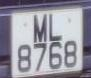6: (48, 41, 65, 72)
7: (32, 42, 49, 75)
8: (15, 42, 33, 77), (63, 38, 79, 71)
L: (48, 13, 65, 45)
M: (31, 12, 48, 46)
